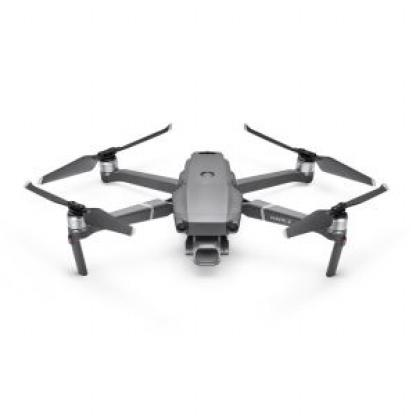drone: (27, 121, 392, 290)
